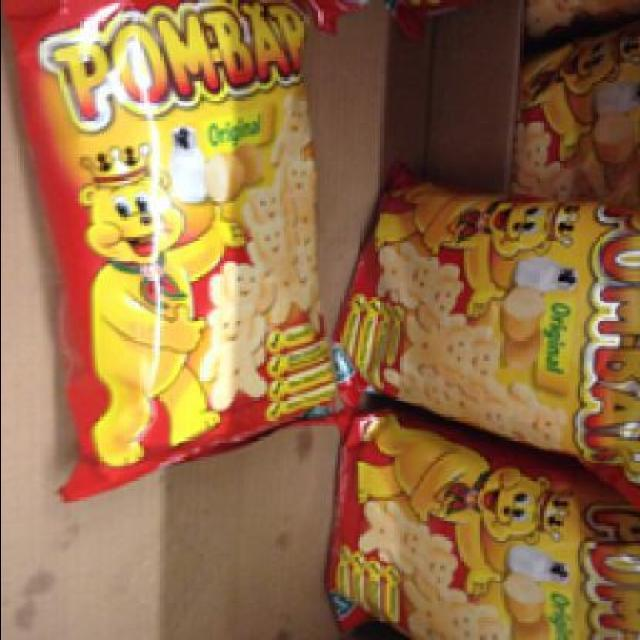Chips: (14, 2, 337, 490), (331, 174, 638, 466), (332, 417, 636, 637)
